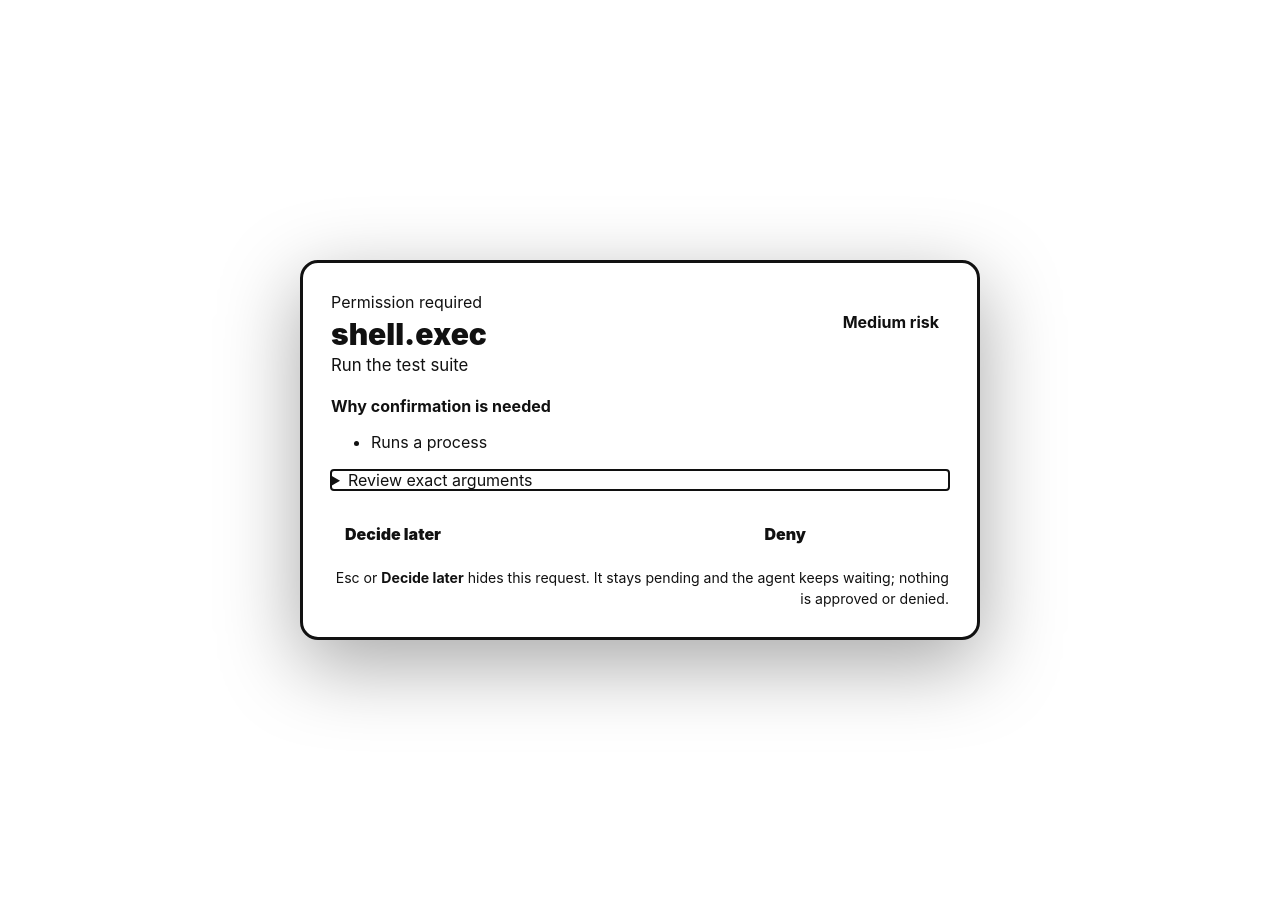
ApprovalCenter › Decide later behaves like Escape
This screenshot has width=1280, height=900.
Expected: the dialog is shown, x1=300 y1=260 x2=980 y2=640
Click the button "Decide later" at (393, 534), box x1=331 y1=512 x2=455 y2=556
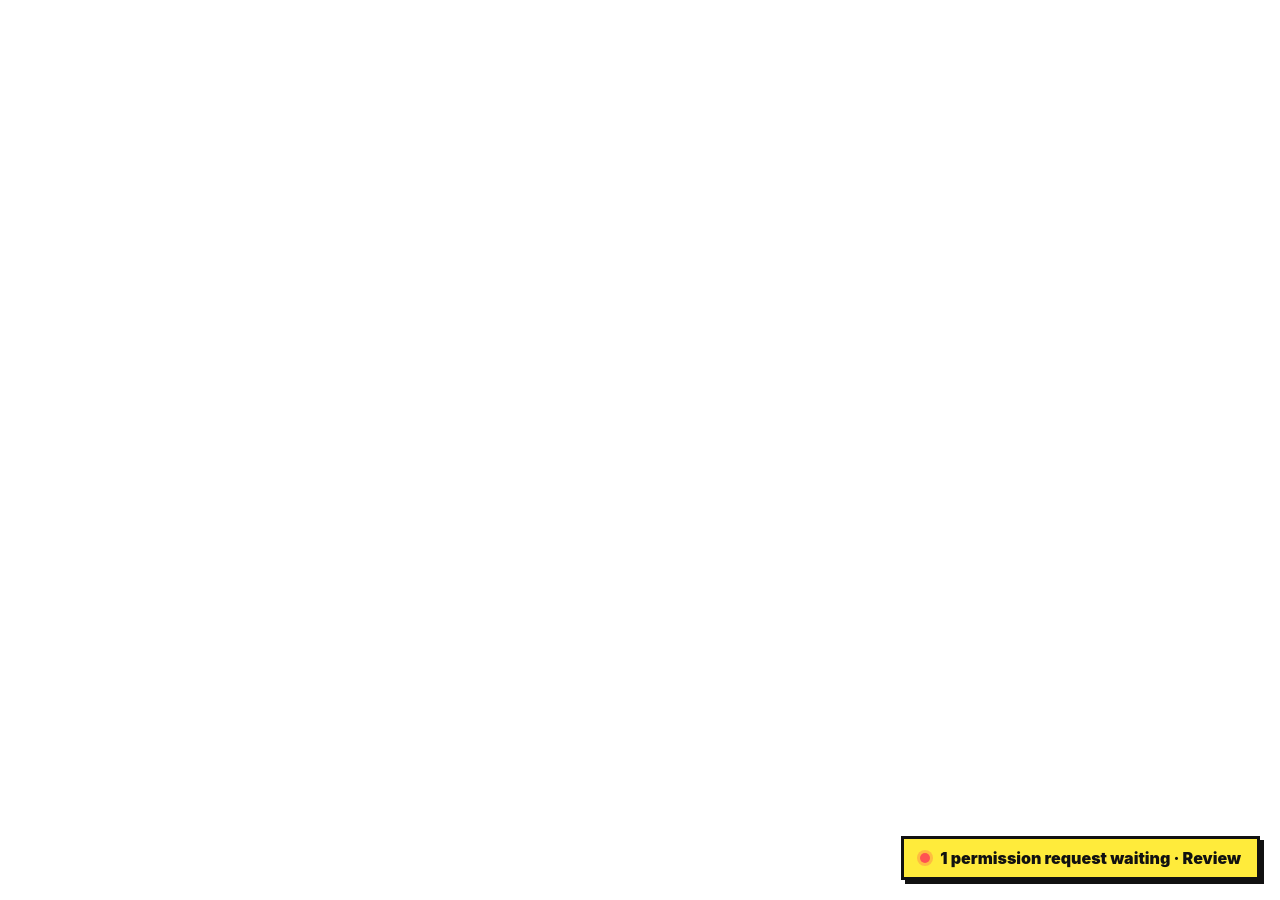
Expected: the dialog is gone
Expected: the button "1 permission request waiting · Review" is shown, x1=901 y1=836 x2=1260 y2=880
